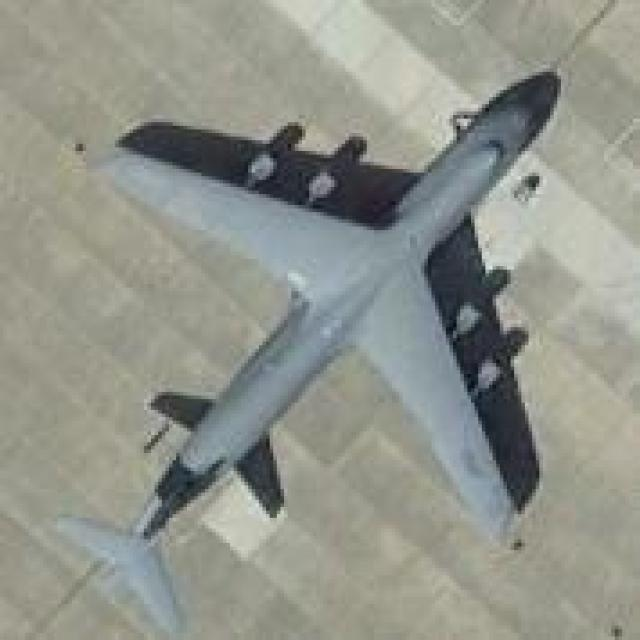C-5_TopDown: (49, 71, 560, 636)
